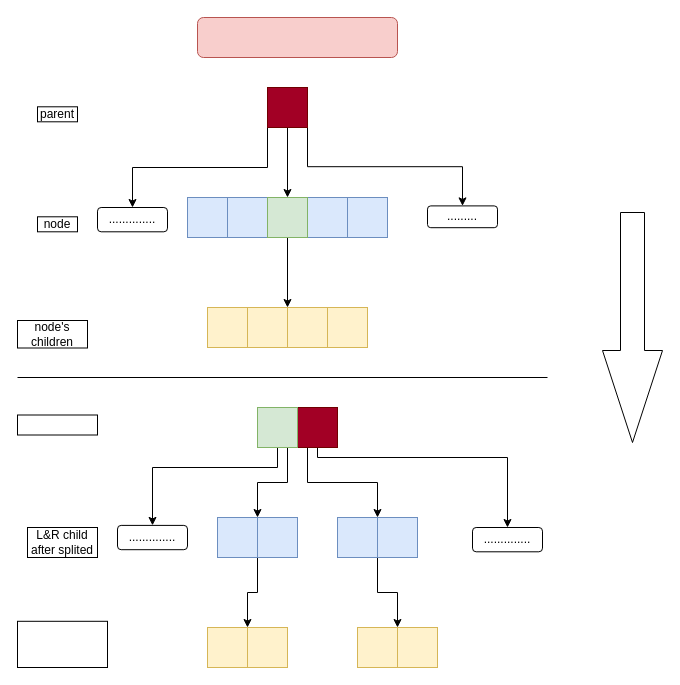
Image size: 680x685. Some labels were removed from this diagram. The shapes that lost their labels are listed below. From the top down, each one's box as (x1, y1, x2, y2) in pixels, then its label:
(196, 16, 398, 58): level = 5 B- Tree
(16, 414, 98, 435): add to parent
(16, 620, 108, 668): origin L&R child of splited node
